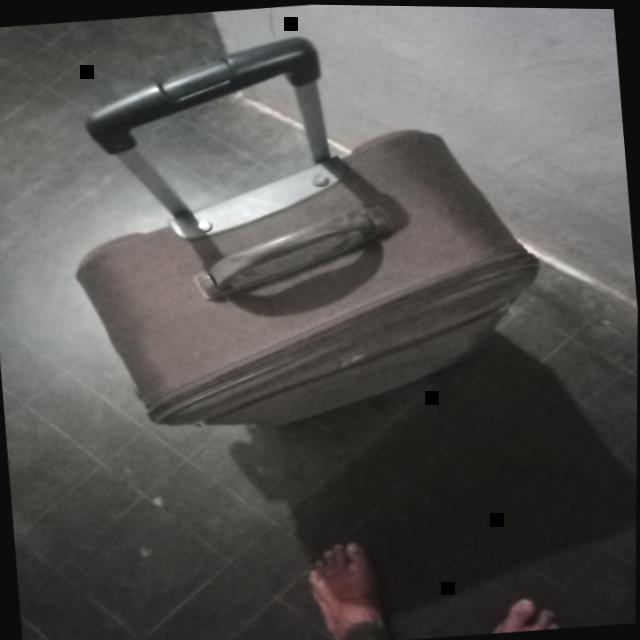luggage: (75, 129, 540, 429)
